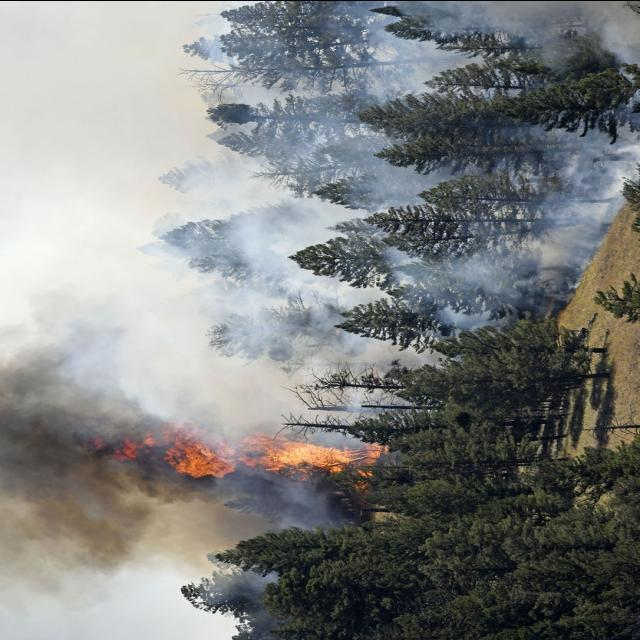Fire: (104, 401, 396, 489)
